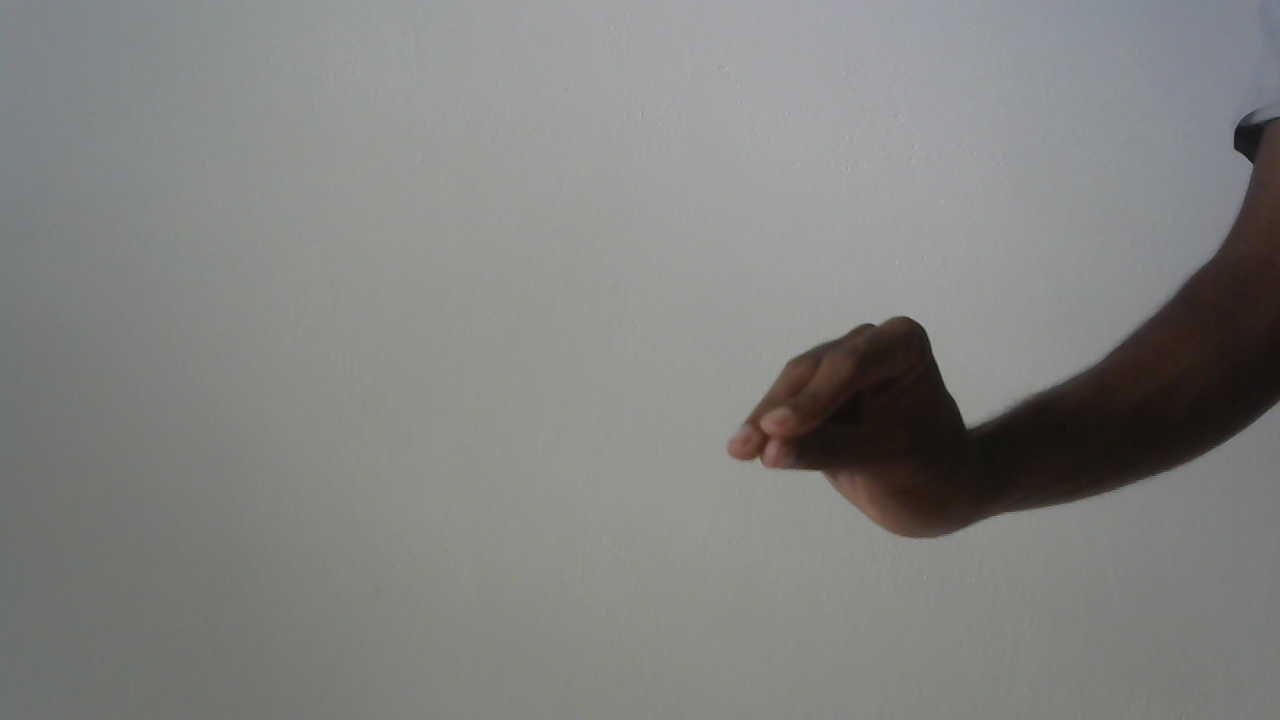no: (708, 303, 1007, 560)
